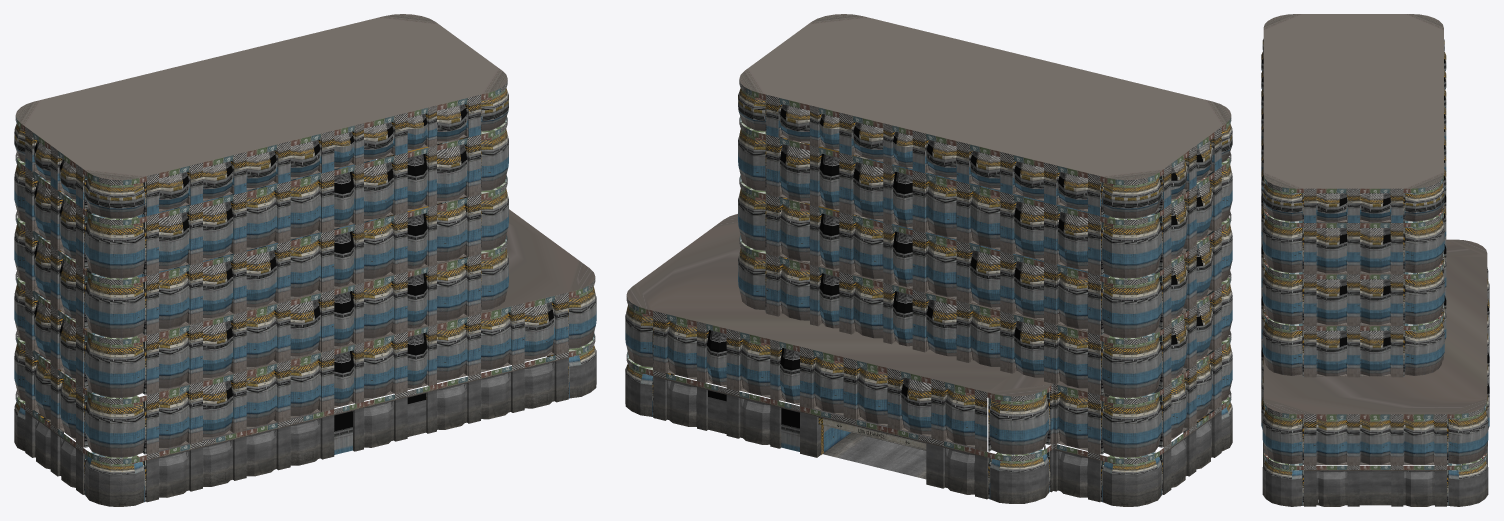
File: Apartment complex.fbx
The picture shows the model from 3 angles, left to right: view 1: azimuth 30°, elevation 25°; view 2: azimuth 150°, elevation 25°; view 3: azimuth 270°, elevation 25°; orthographic projection. The views are drawn at different scales.
Visible parts, largest first — view 1: object, object.001; view 2: object, object.001, object.004, object.002; view 3: object, object.001.
Boxes of the visible parts, box(x1,y1,x2,y2) form: object: box(15, 14, 595, 502); object.001: box(14, 88, 596, 506); object: box(626, 14, 1231, 502); object.001: box(625, 88, 1232, 506); object.004: box(823, 426, 926, 479); object.002: box(818, 417, 926, 450); object: box(1263, 14, 1487, 506); object.001: box(1261, 39, 1489, 506).
Bounding box in the file's own units: 25391 × 15596 × 11491.
Materials: 2 (2 with a texture image).
